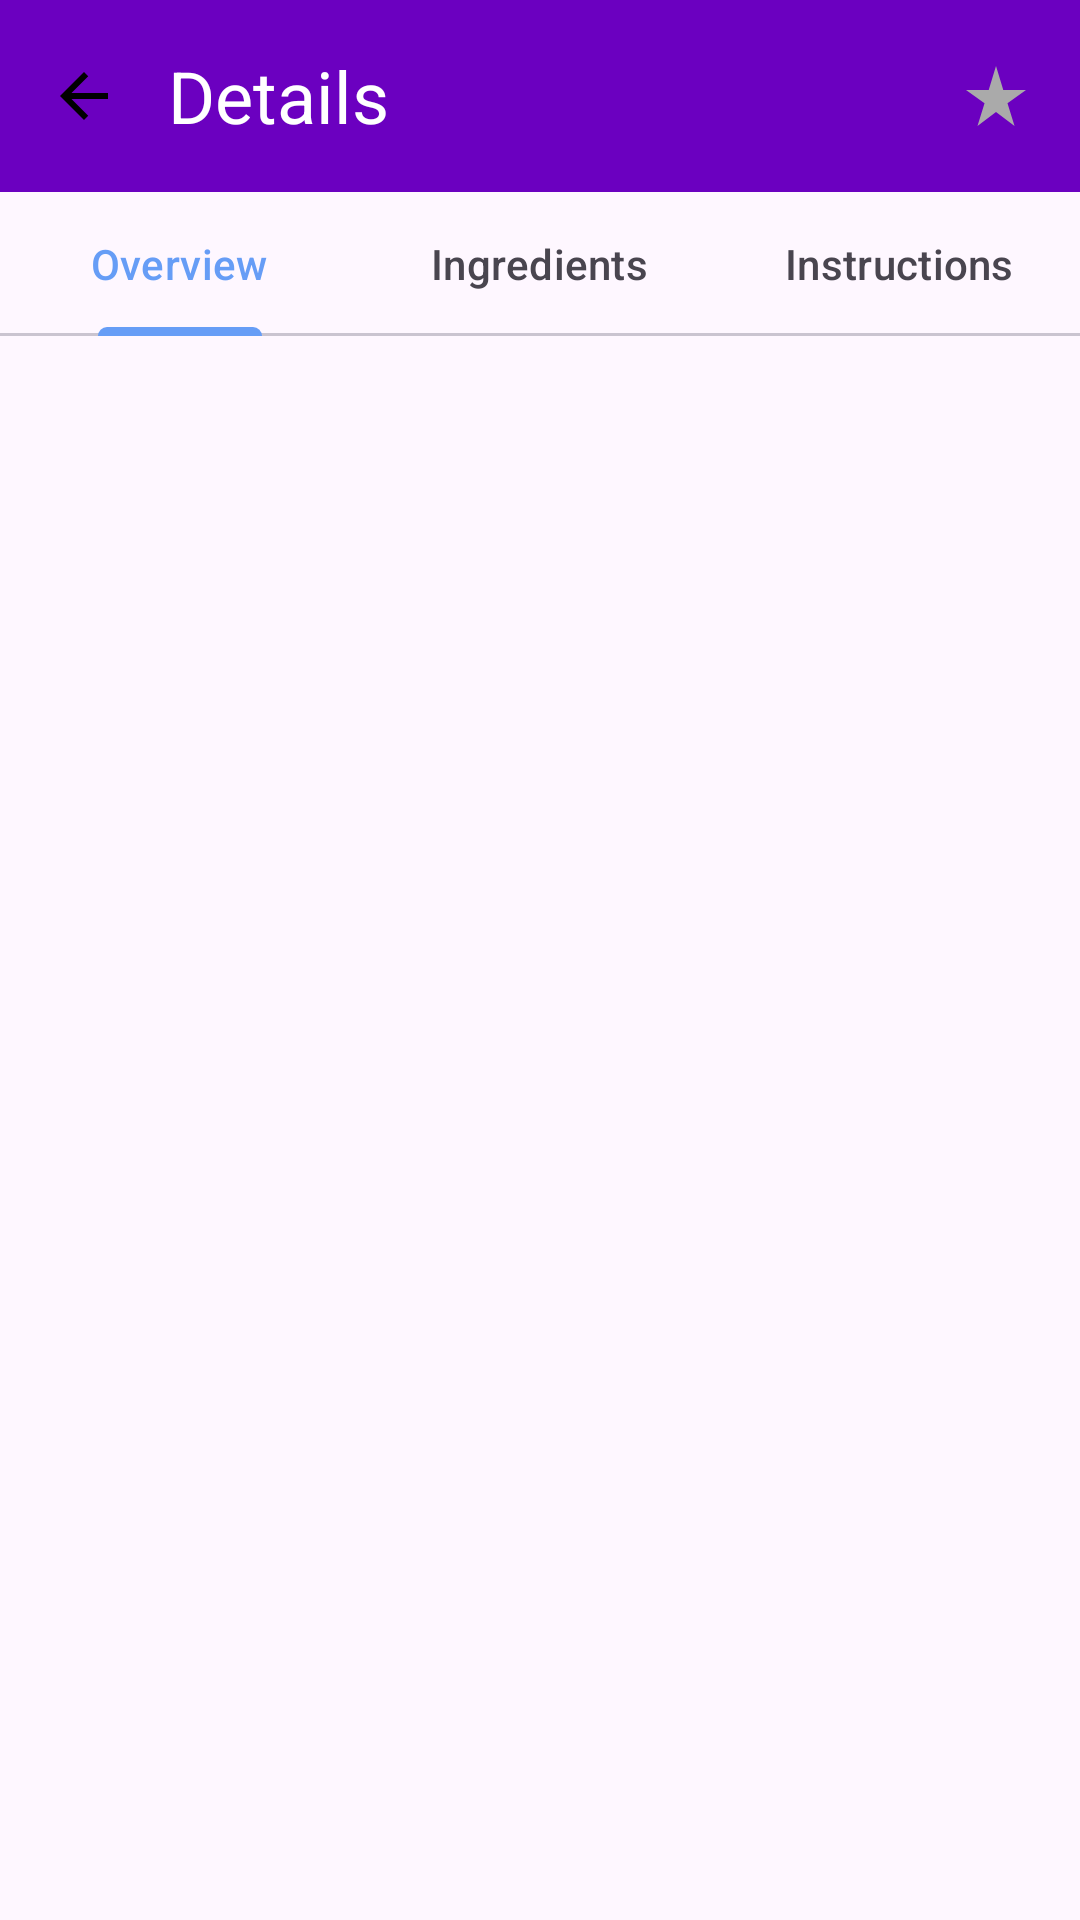

Icon click points for this 1080 × 1920 phone screenshot, format (x,y):
Add this recipe to favorites: (996,96)
Back to previous page: (84,96)
